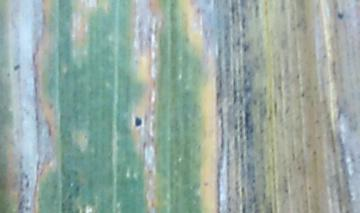tarspot: (133, 115, 143, 128), (337, 11, 345, 20), (12, 63, 20, 71), (24, 180, 31, 188), (23, 173, 29, 179)
